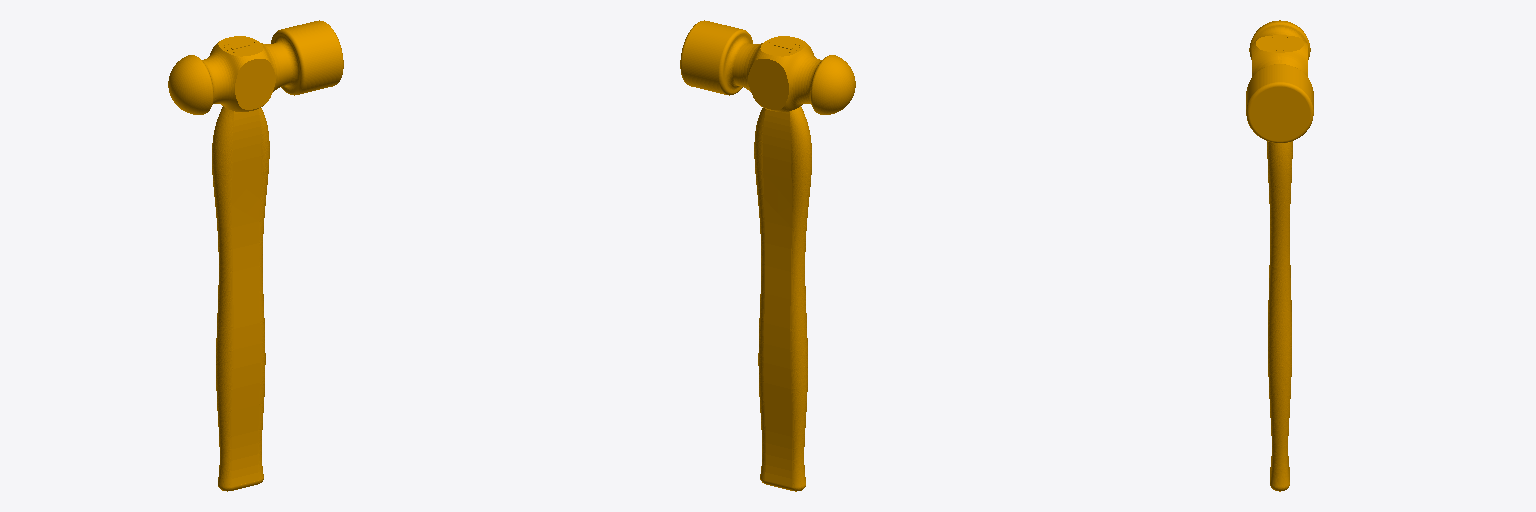
The robot description file, URDF, robot "hammer_2_L0.90_T0.90":
<?xml version="1.0" encoding="utf-8"?>
<robot name="hammer_2_L0.90_T0.90">
  <link name="hammer_2_L0.90_T0.90Link">
    <contact>
      <lateral_friction value="1"/>
    </contact>
    <inertial>
      <origin rpy="0 0 0" xyz="0 0 0"/>
      <mass value="0.0"/>
      <inertia ixx="0" ixy="0" ixz="0" iyy="0" iyz="0" izz="0"/>
    </inertial>
    <visual>
      <origin rpy="0 0 0" xyz="0 0 0"/>
      <geometry>
        <mesh filename="generated_stl/hammer/hammer_2/hammer_2_L0.90_T0.90/hammer_2_L0.90_T0.90.stl" scale="0.01 0.01 0.01"/>
      </geometry>
    </visual>
    <collision>
      <origin rpy="0 0 0" xyz="0 0 0"/>
      <geometry>
        <mesh filename="generated_stl/hammer/hammer_2/hammer_2_L0.90_T0.90/hammer_2_L0.90_T0.90.stl" scale="0.01 0.01 0.01"/>
      </geometry>
    </collision>
  </link>
</robot>

--- Render facts (derived) ---
3 views of the same robot in one strip: view 1: azimuth 30°, elevation 25°; view 2: azimuth 150°, elevation 25°; view 3: azimuth 270°, elevation 25° (orthographic).
Robot: hammer_2_L0.90_T0.90 — 1 links, 0 joints (none); root link hammer_2_L0.90_T0.90Link; default pose: all joints at 0.
Visible links, largest first — view 1: hammer_2_L0.90_T0.90Link; view 2: hammer_2_L0.90_T0.90Link; view 3: hammer_2_L0.90_T0.90Link.
Link boxes in pixels (x1,y1,x2,y2): hammer_2_L0.90_T0.90Link: (168,20,343,491); hammer_2_L0.90_T0.90Link: (680,20,855,491); hammer_2_L0.90_T0.90Link: (1246,20,1313,491).
Size in the robot's own frame: 0.09 by 0.0338 by 0.2445 metres.
1 mesh visuals loaded from 1 distinct referenced files (1 binary STL).